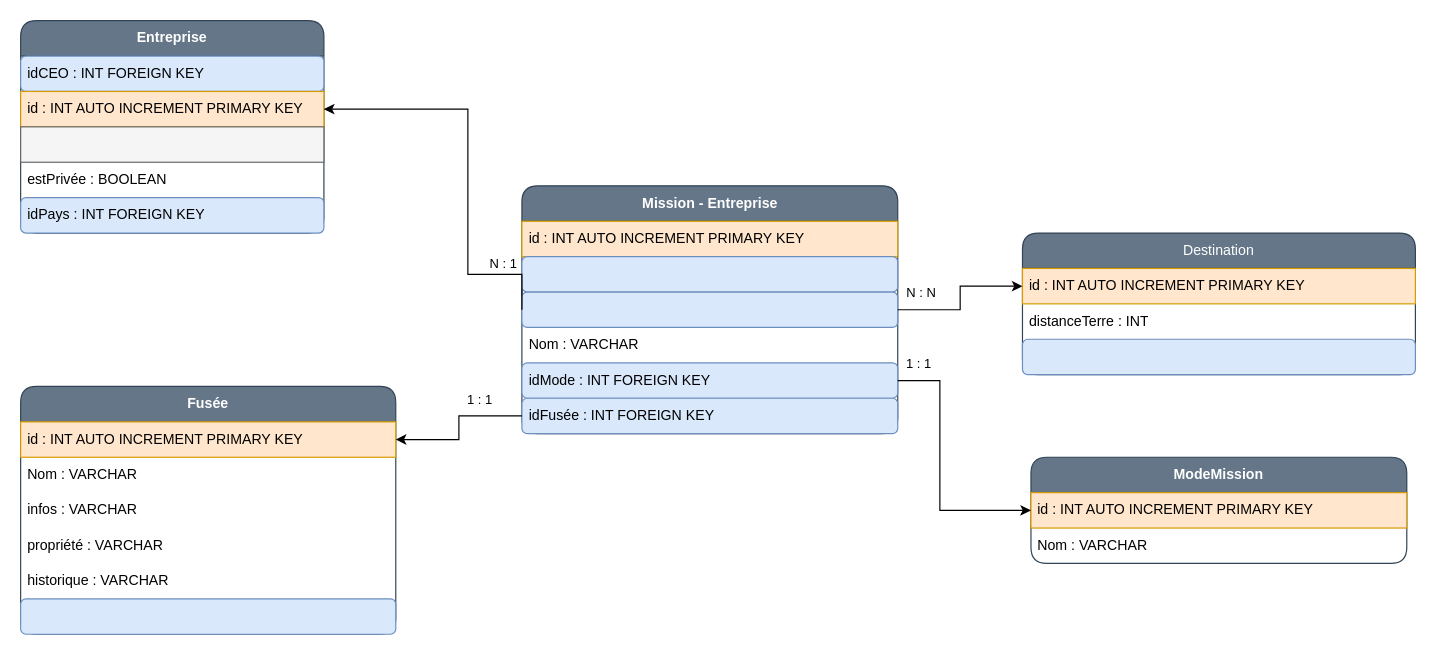
Some shapes in this 1436 by 655 pixel diagram are drawn without their labels. Each missing label, with the centre of its shape:
idAstre : INT FOREIGN KEY: (x=1218, y=356)
idDestination : INT FOREIGN KEY: (x=709, y=309)
idEntreprise : INT FOREIGN KEY: (x=709, y=273)
idPieces : INT FOREIGN KEY: (x=207, y=616)
Nom : VARCHAR UNIQUE KEY: (x=171, y=144)
